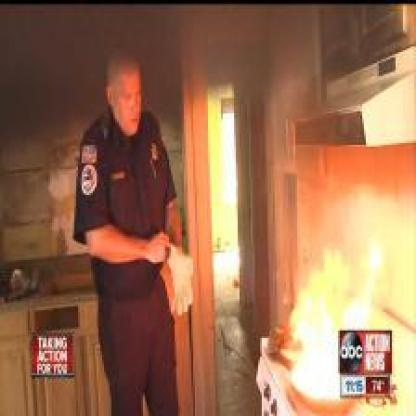Fire: (294, 250, 336, 393)
